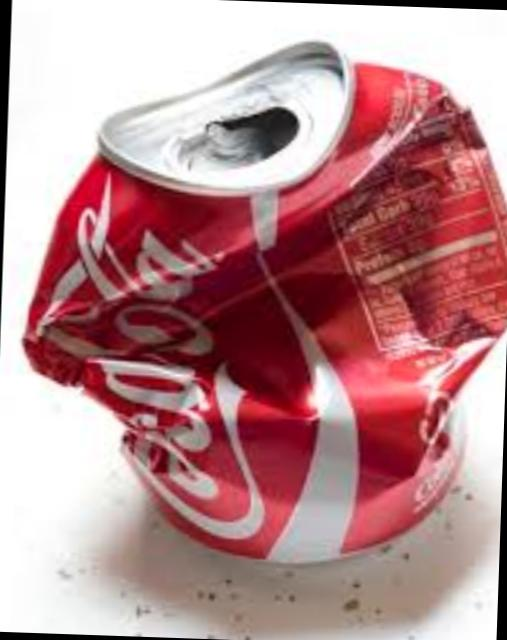metal: (21, 37, 507, 556)
